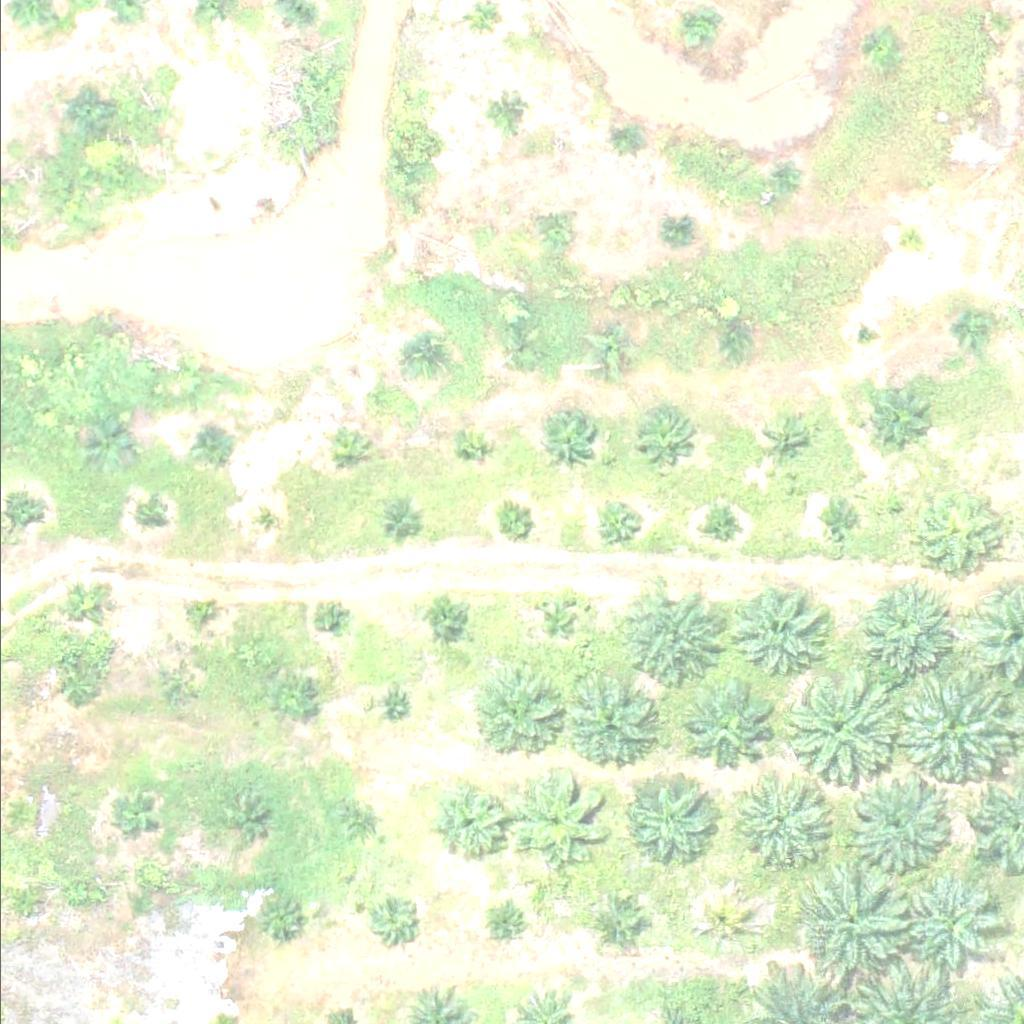Kelapa_Sawit: (889, 663, 1014, 788), (770, 663, 895, 788), (790, 870, 903, 983), (901, 874, 1002, 974), (846, 773, 947, 873), (849, 584, 950, 684), (721, 581, 822, 681), (903, 486, 1004, 586), (511, 771, 612, 871), (619, 589, 720, 689), (729, 784, 818, 872), (423, 778, 511, 866), (474, 669, 562, 757), (566, 681, 654, 769), (679, 688, 767, 776), (634, 778, 722, 865), (860, 381, 923, 444), (533, 408, 596, 470), (51, 665, 102, 715), (642, 411, 693, 461), (57, 578, 108, 628), (318, 424, 369, 474), (585, 327, 636, 377), (594, 899, 644, 949), (365, 893, 415, 943), (251, 896, 301, 946), (112, 793, 162, 843), (219, 793, 269, 843), (333, 800, 383, 850), (263, 673, 313, 723), (423, 592, 473, 642), (79, 420, 129, 470), (59, 89, 109, 139), (694, 900, 744, 950), (532, 595, 582, 645), (596, 500, 646, 550), (190, 424, 228, 462), (713, 317, 751, 355), (888, 220, 926, 258), (819, 511, 857, 549), (676, 10, 714, 47), (154, 668, 191, 706), (447, 427, 484, 465), (702, 505, 740, 542), (769, 423, 807, 460), (659, 217, 696, 255), (483, 93, 521, 130), (501, 334, 538, 372), (498, 507, 536, 544), (949, 304, 987, 341), (4, 887, 42, 924), (375, 503, 412, 540), (403, 335, 440, 372), (611, 115, 648, 152), (533, 212, 570, 249), (866, 32, 903, 69), (768, 163, 805, 200), (317, 604, 342, 629), (187, 597, 212, 622), (248, 509, 273, 534), (136, 503, 161, 528), (491, 914, 516, 939), (852, 323, 877, 348), (381, 692, 406, 716)
